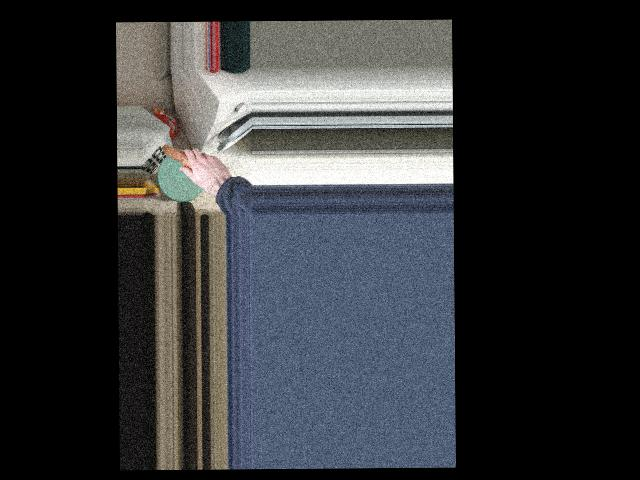sweet_potato: (164, 143, 215, 182)
